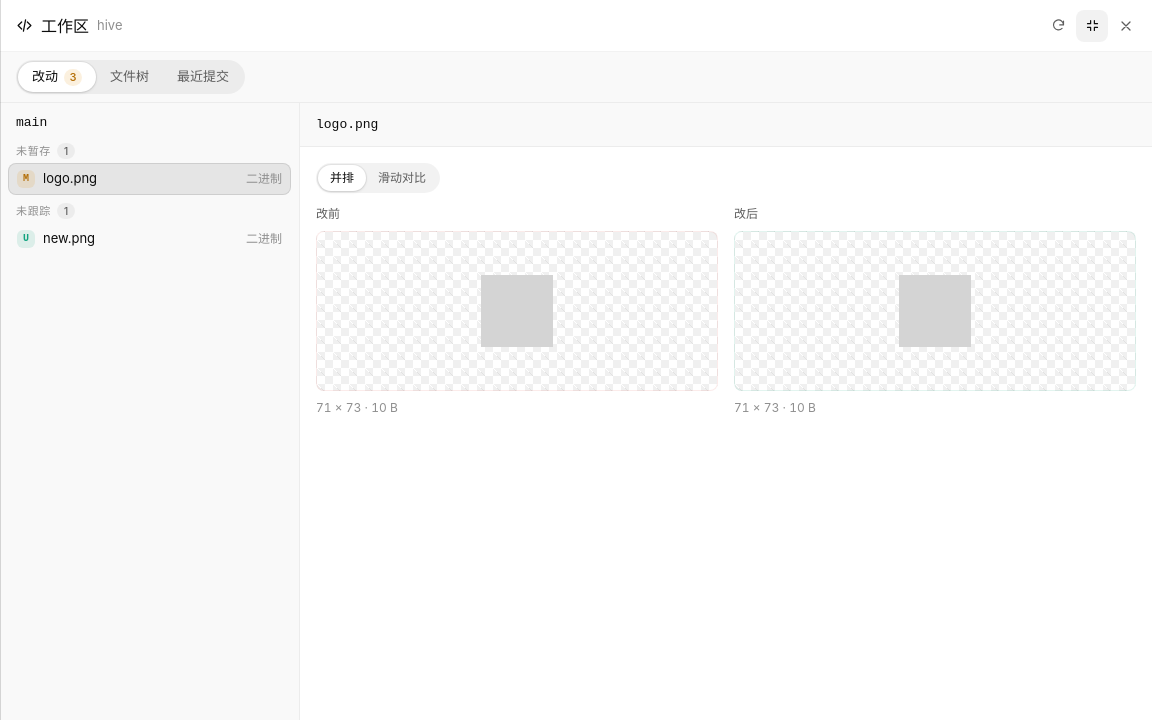
Test case: WorkspacePanel › 图片改动显示改前改后对照，新增图片只显示改后
Check: the text "改前" is shown, box [316,206,340,221]
Click the button "U new.png 二进制". click: [69, 238]
box: [8,223,291,254]
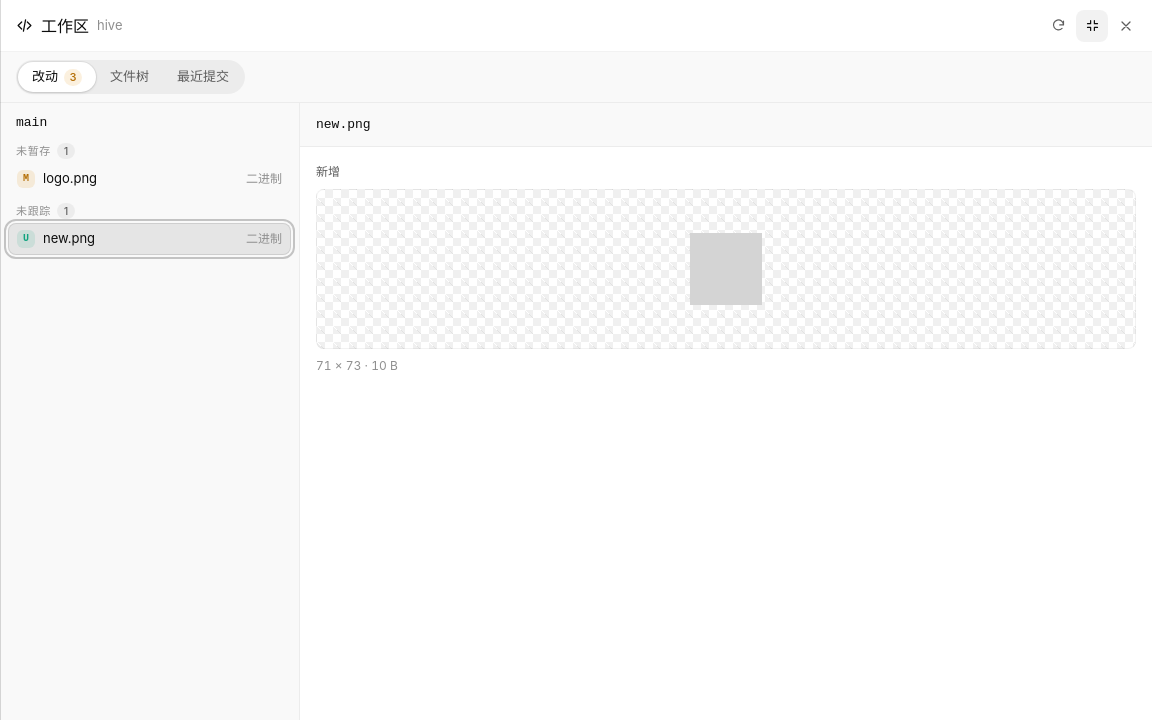
Check: the text "新增" is shown, box [316,164,340,179]
Check: the text "改前" is gone
